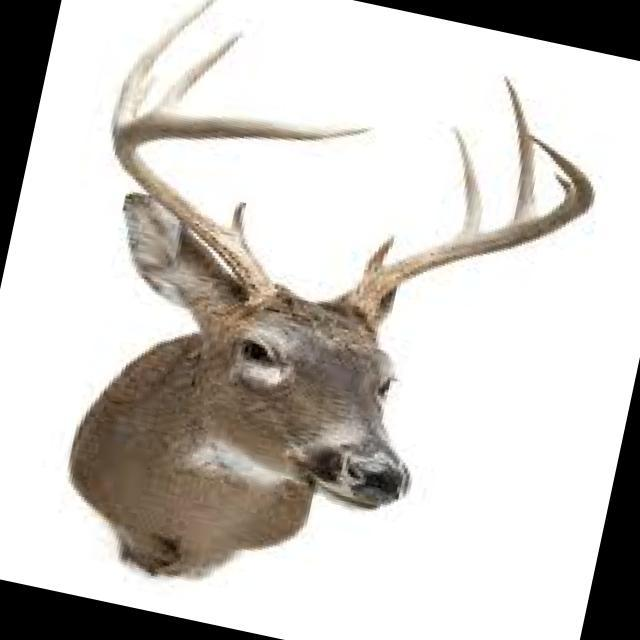L-F: (340, 136, 596, 339)
L-G1: (361, 233, 395, 280)
L-G2: (449, 124, 484, 235)
L-G3: (500, 74, 537, 222)
R-F: (112, 113, 374, 311)
R-G1: (228, 201, 247, 243)
R-G3: (111, 0, 217, 129)
R-G4: (148, 29, 245, 114)
